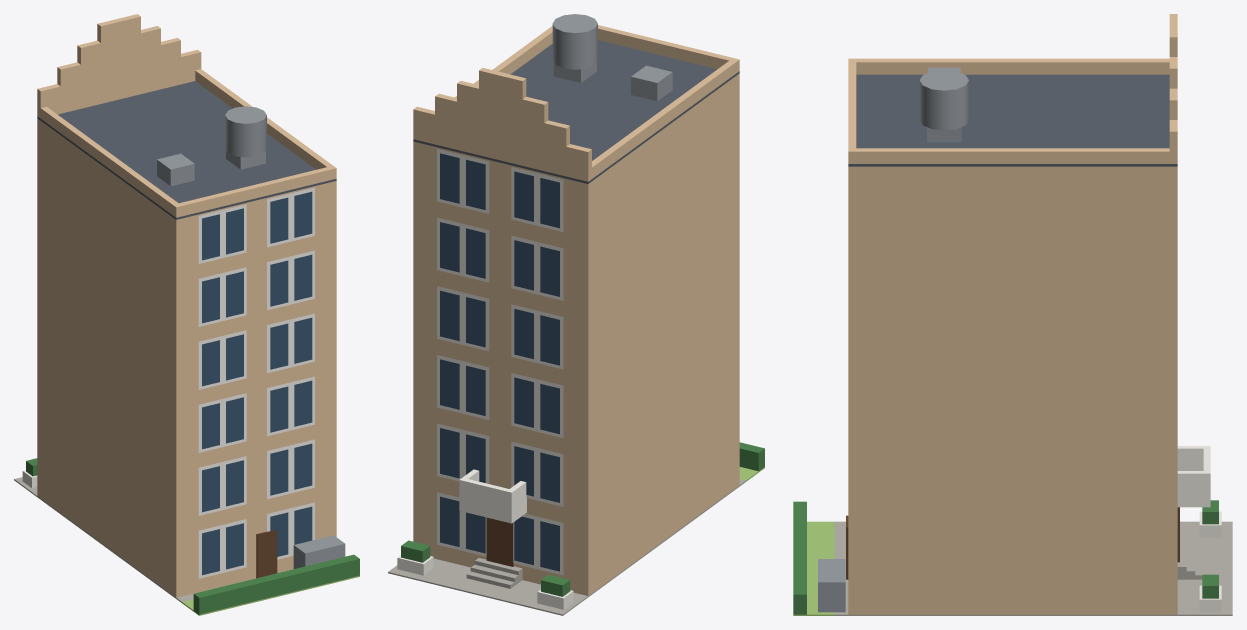
3 views of the same model, side by side, from view 1: azimuth 30°, elevation 25°; view 2: azimuth 150°, elevation 25°; view 3: azimuth 270°, elevation 25° (orthographic). The views are drawn at different scales.
Parts seen in each view (by area): view 1: wall, window_glass (×24), roof, window_frame (×20), parapet (×4), gable_step (×4), hedge, water_tank, bin_store, ac_unit, door, paving; view 2: wall, window_glass (×24), window_frame (×20), roof, gable_step (×4), parapet (×4), paving, water_tank, hedge (×3), balcony_parapet, door, ac_unit (+1 smaller); view 3: wall, roof, parapet (×3), paving, water_tank, lawn, hedge, bin_store, balcony_parapet (×2).
Part boxes in pixels (x1,y1,x2,y2): wall: [37, 118, 336, 597]; window_glass (×24): [202, 191, 312, 575]; roof: [37, 81, 336, 219]; window_frame (×20): [198, 187, 314, 578]; parapet (×4): [37, 69, 336, 217]; gable_step (×4): [37, 14, 201, 107]; hedge: [193, 554, 359, 614]; water_tank: [225, 106, 266, 157]; bin_store: [293, 535, 345, 568]; ac_unit: [157, 153, 194, 186]; door: [256, 530, 277, 578]; paving: [14, 477, 292, 602]; wall: [413, 73, 739, 595]; window_glass (×24): [440, 153, 559, 571]; window_frame (×20): [437, 149, 563, 575]; roof: [413, 40, 739, 183]; gable_step (×4): [413, 68, 591, 170]; parapet (×4): [413, 25, 739, 181]; paving: [388, 479, 745, 615]; water_tank: [552, 14, 597, 69]; hedge (×3): [401, 442, 764, 596]; balcony_parapet: [459, 477, 514, 517]; door: [486, 517, 513, 566]; ac_unit: [631, 65, 672, 101]; wall: [848, 166, 1177, 614]; roof: [848, 74, 1177, 166]; parapet (×3): [848, 58, 1169, 163]; paving: [834, 521, 1232, 615]; water_tank: [919, 70, 968, 130]; lawn: [793, 521, 834, 615]; hedge: [793, 501, 806, 614]; bin_store: [818, 559, 845, 612]; balcony_parapet (×2): [1177, 446, 1203, 500].
Size of the model in its own units: 8 by 21.86 by 16.
